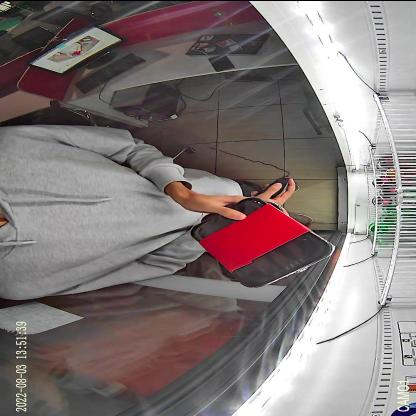red: (189, 196, 336, 286)
undefined: (201, 201, 309, 279)
